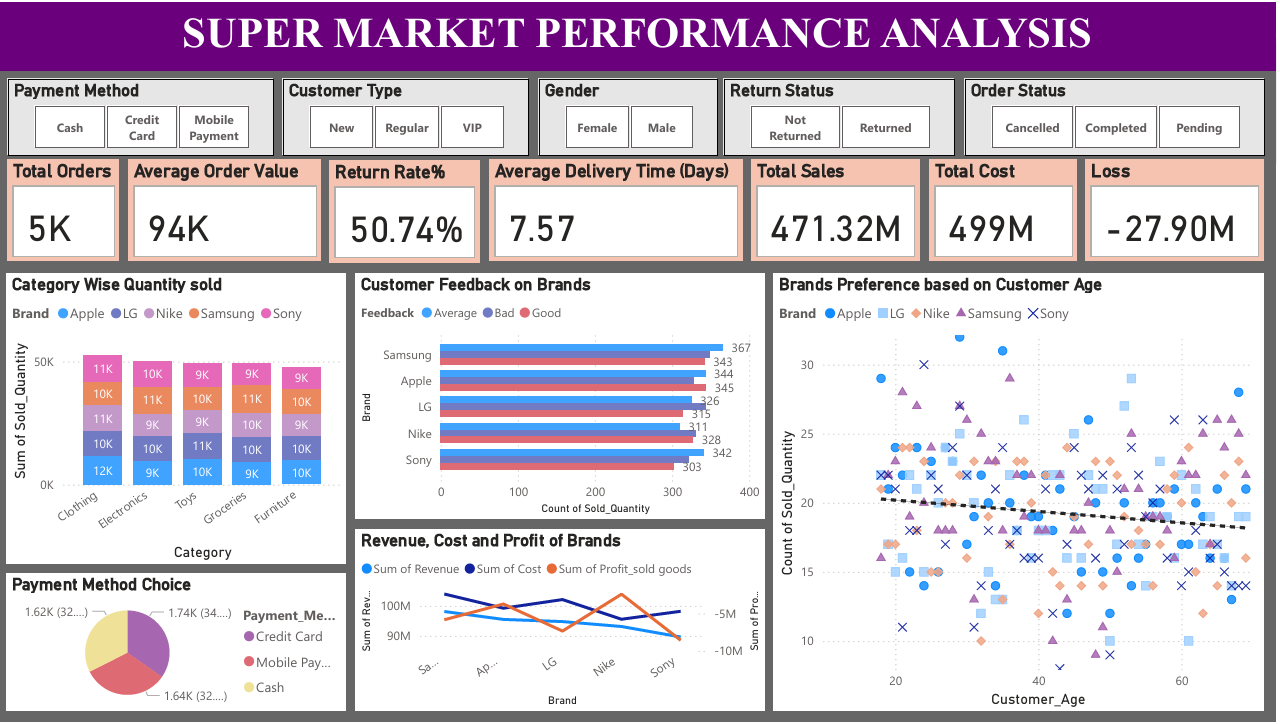

The dashboard page shown, as its layout file describes it:
{"tool":"powerbi","page":{"name":"Page 1","canvas":[1280,720],"ordinal":0},"visuals":[{"type":"textbox","box":[0,0,1280.3,68.9],"z":0},{"type":"slicer","title":"Payment Method","fields":{"Values":["super_shop_dataset.Payment_Method"]},"box":[10.9,76,266.6,77.2],"z":1000},{"type":"slicer","title":"Gender","fields":{"Values":["super_shop_dataset.Customer_Gender"]},"box":[541.7,76,179.8,77.2],"z":2000},{"type":"slicer","title":"Order Status","fields":{"Values":["super_shop_dataset.Order_Status"]},"box":[967.6,76,300.4,77.2],"z":3000},{"type":"slicer","title":"Customer Type","fields":{"Values":["super_shop_dataset.Customer_Type"]},"box":[285.9,76,246.1,77.2],"z":4000},{"type":"cardVisual","title":"Total Orders","fields":{"Data":["CountNonNull(super_shop_dataset.Transaction_ID)"]},"box":[10.9,156.8,112.2,102.5],"z":5000},{"type":"cardVisual","title":"Average Order Value","fields":{"Data":["super_shop_dataset.Average Order Value"]},"box":[131.5,156.8,193,102.5],"z":6000},{"type":"cardVisual","title":"Return Rate%","fields":{"Data":["super_shop_dataset.Return Rate %"]},"box":[333,158,150.8,102.5],"z":7000},{"type":"cardVisual","title":"Average Delivery Time (Days)","fields":{"Data":["Avg(super_shop_dataset.Delivery_Time)"]},"box":[493.4,156.8,253.4,102.5],"z":8000},{"type":"cardVisual","title":"Total Sales","fields":{"Data":["Sum(super_shop_dataset.Sales)"]},"box":[755.2,156.8,168.9,102.5],"z":9000},{"type":"cardVisual","title":"Loss","fields":{"Data":["Sum(super_shop_dataset.Profit_sold goods)"]},"box":[1089.4,156.8,178.6,102.5],"z":10000},{"type":"cardVisual","title":"Total Cost","fields":{"Data":["Sum(super_shop_dataset.Cost)"]},"box":[932.6,156.8,148.4,102.5],"z":11000},{"type":"pieChart","title":"Payment Method Choice","fields":{"Category":["super_shop_dataset.Payment_Method"],"Y":["CountNonNull(super_shop_dataset.Payment_Method)"]},"box":[10.3,570.5,339.7,138.5],"z":12000},{"type":"columnChart","title":"Category Wise Quantity sold","fields":{"Category":["super_shop_dataset.Category"],"Y":["Sum(super_shop_dataset.Sold_Quantity)"],"Series":["super_shop_dataset.Brand"]},"box":[10.3,270.5,339.7,291],"z":13000},{"type":"clusteredBarChart","title":"Customer Feedback on Brands","fields":{"Category":["super_shop_dataset.Brand"],"Series":["super_shop_dataset.Feedback"],"Y":["CountNonNull(super_shop_dataset.Sold_Quantity)"]},"box":[359,270.5,410.3,246.2],"z":14000},{"type":"scatterChart","title":"Brands Preference based on Customer Age","fields":{"X":["super_shop_dataset.Customer_Age"],"Y":["CountNonNull(super_shop_dataset.Sold_Quantity)"],"Series":["super_shop_dataset.Brand"]},"box":[776.9,270.5,491,438.5],"z":15000},{"type":"slicer","title":"Return Status","fields":{"Values":["super_shop_dataset.Return_Status"]},"box":[727.5,76,230.4,77.2],"z":16000},{"type":"lineChart","title":"Revenue, Cost and Profit of Brands","fields":{"Category":["super_shop_dataset.Brand"],"Y":["Sum(super_shop_dataset.Sales)","Sum(super_shop_dataset.Cost)"],"Y2":["Sum(super_shop_dataset.Profit_sold goods)"]},"box":[359,526.9,410.3,182.1],"z":17000}]}

Visuals, with their boxes in screenshot pixels (x1, y1, x2, y2), scaled from the page's 1280x720 canvas onto the 1280x724 screenshot:
textbox: Rect(0, 0, 1279, 69)
"Payment Method" slicer: Rect(11, 76, 278, 154)
"Gender" slicer: Rect(542, 76, 722, 154)
"Order Status" slicer: Rect(968, 76, 1268, 154)
"Customer Type" slicer: Rect(286, 76, 532, 154)
"Total Orders" cardVisual: Rect(11, 158, 123, 261)
"Average Order Value" cardVisual: Rect(132, 158, 324, 261)
"Return Rate%" cardVisual: Rect(333, 159, 484, 262)
"Average Delivery Time (Days)" cardVisual: Rect(493, 158, 747, 261)
"Total Sales" cardVisual: Rect(755, 158, 924, 261)
"Loss" cardVisual: Rect(1089, 158, 1268, 261)
"Total Cost" cardVisual: Rect(933, 158, 1081, 261)
"Payment Method Choice" pieChart: Rect(10, 574, 350, 713)
"Category Wise Quantity sold" columnChart: Rect(10, 272, 350, 565)
"Customer Feedback on Brands" clusteredBarChart: Rect(359, 272, 769, 520)
"Brands Preference based on Customer Age" scatterChart: Rect(777, 272, 1268, 713)
"Return Status" slicer: Rect(728, 76, 958, 154)
"Revenue, Cost and Profit of Brands" lineChart: Rect(359, 530, 769, 713)
